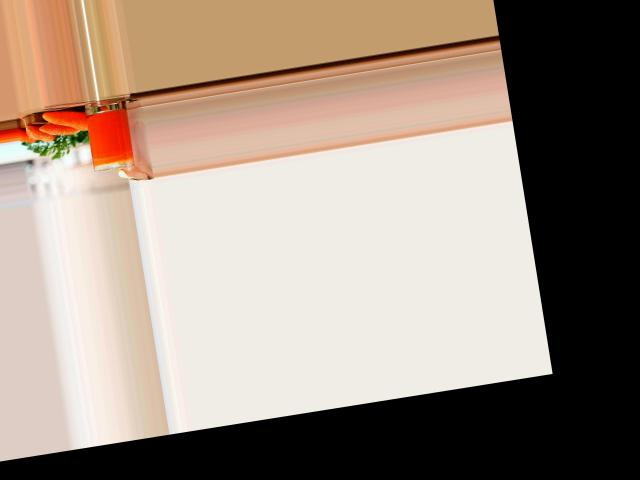carrot: (25, 123, 63, 143)
